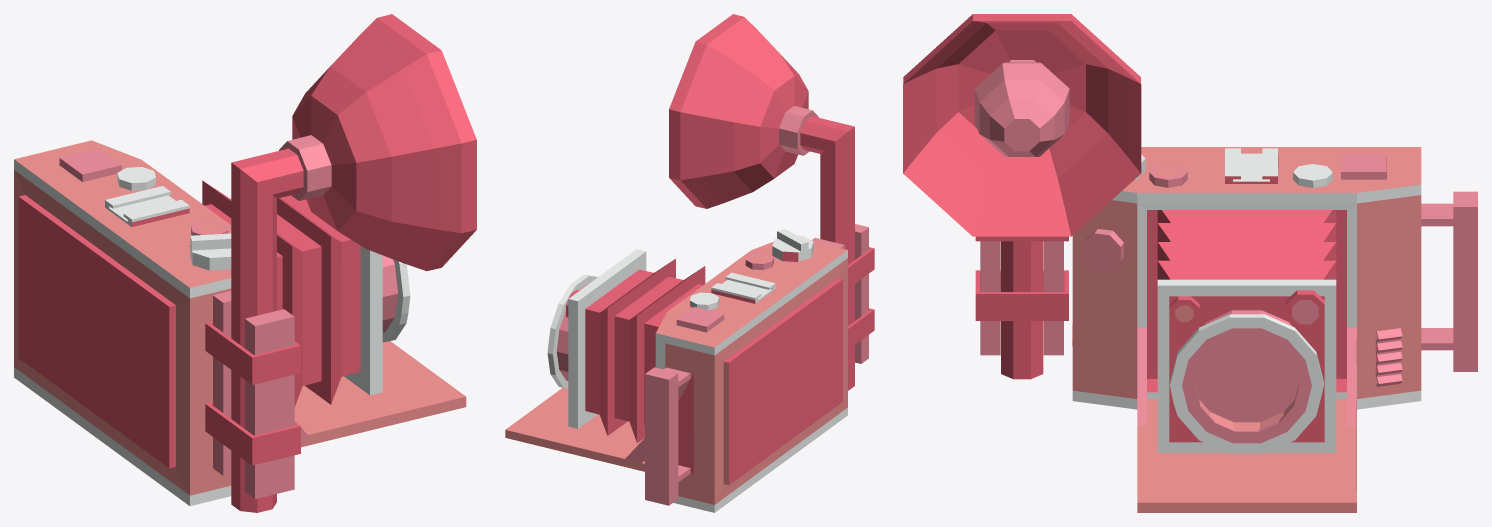
File: Camera 1.fbx
The picture shows the model from 3 angles, left to right: view 1: azimuth 30°, elevation 25°; view 2: azimuth 150°, elevation 25°; view 3: azimuth 270°, elevation 25°; orthographic projection. The views are drawn at different scales.
Visible parts, largest first — view 1: Camera.001, Flash; view 2: Camera.001, Flash, Camera; view 3: Camera.001, Flash, Camera.
Boxes of the visible parts, box(x1,y1,x2,y2) form: Camera.001: box(14, 140, 466, 505); Flash: box(205, 14, 476, 512); Camera.001: box(505, 228, 847, 512); Flash: box(669, 14, 874, 390); Camera: box(645, 367, 690, 505); Camera.001: box(1072, 147, 1421, 512); Flash: box(903, 14, 1141, 379); Camera: box(1421, 191, 1477, 371).
Size of the model in its own units: 501 by 672 by 796.
